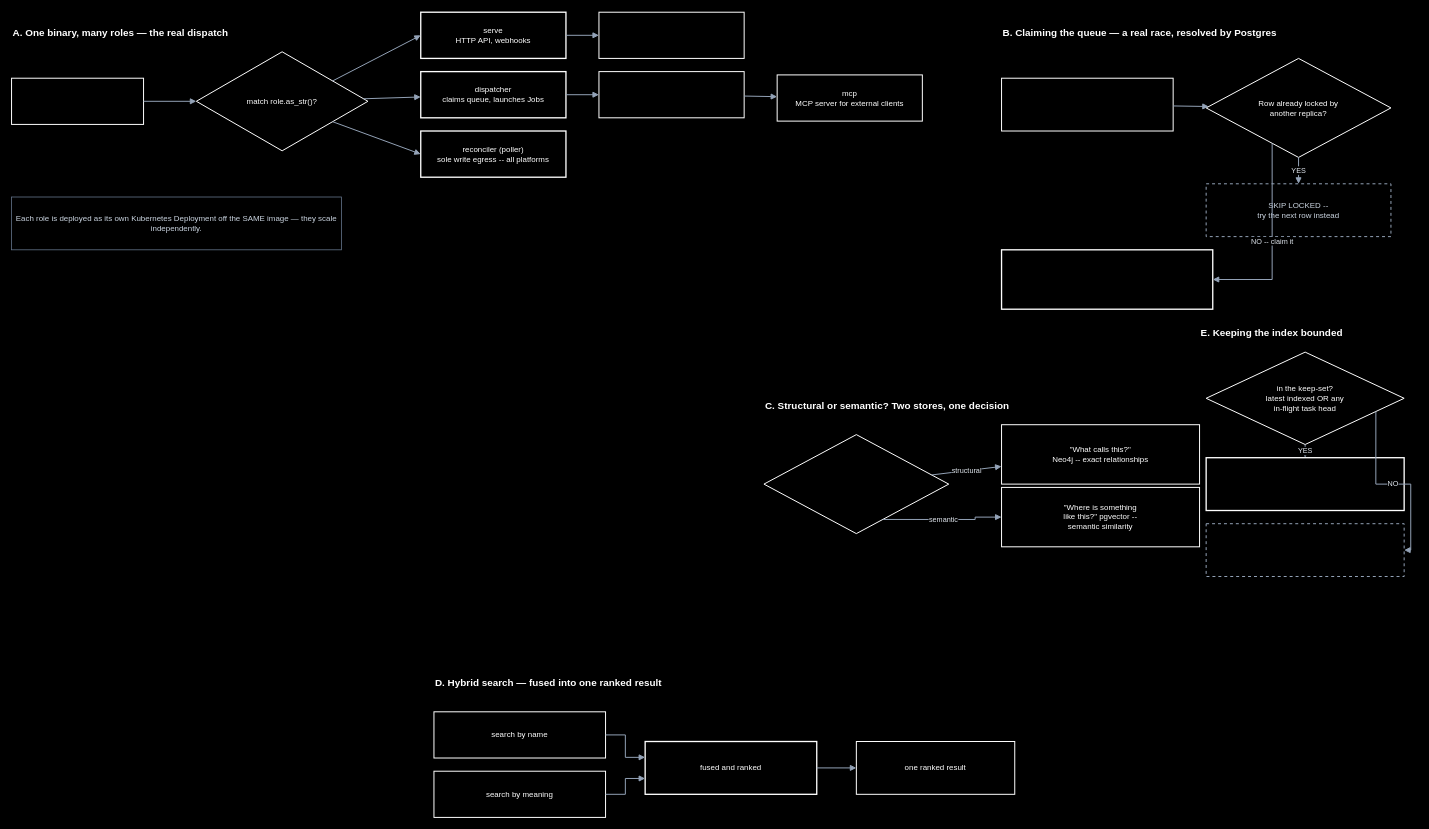
Image size: 1429x829. Some labels were removed from this diagram. The centre of each missing label's shape, as x and y in pixels:
"a2a Agent2Agent ingress" belongs at (x=671, y=35).
"CONTROL_PLANE_ROLE (or first CLI arg)" belongs at (x=77, y=101).
"N dispatcher replicas, same SELECT ... LIMIT 1" belongs at (x=1087, y=104).
"NO -- pruned from pgvector + Neo4j (index sweeper, every 10 min)" belongs at (x=1304, y=550).
"notifier A2A push webhooks" belongs at (x=671, y=94).
"UPDATE status='running', lease_owner, lease_expires_at -- this replica owns it" belongs at (x=1107, y=279).
"What kind of question is this?" belongs at (x=856, y=484).
"YES -- kept" belongs at (x=1304, y=484).
